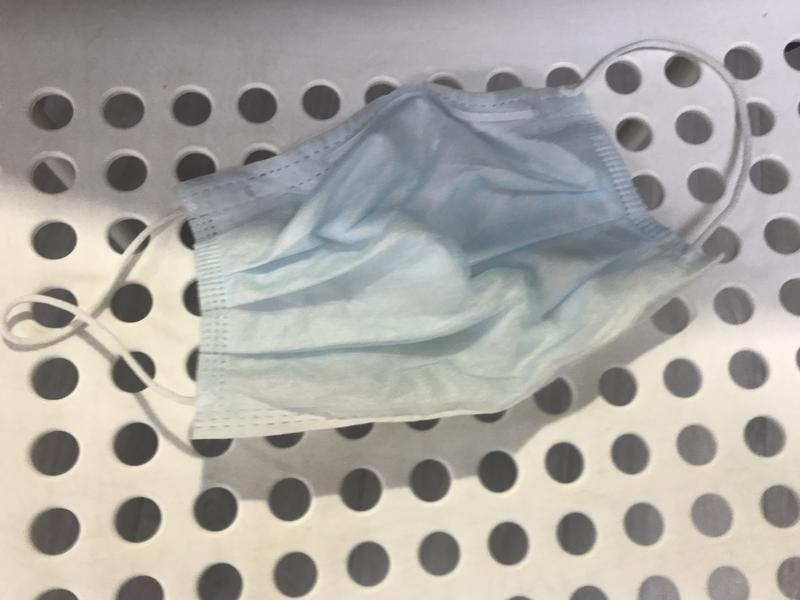medical_mask: (1, 39, 754, 440)
